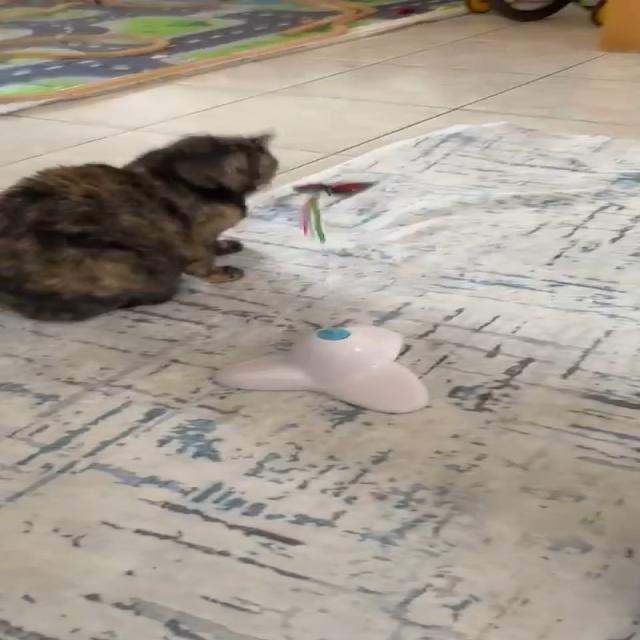authorized: (0, 128, 279, 322)
